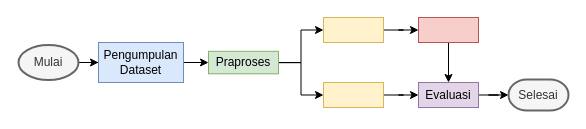
This 586x129 diagram has some shape labels left out. The shapes that lost their labels are listed below. From the top down, each one's box as (x1, y1, x2, y2) in pixels, then its label:
(322, 16, 384, 42): Data Latih
(418, 16, 478, 42): DistilBert
(322, 82, 384, 108): Data Uji
